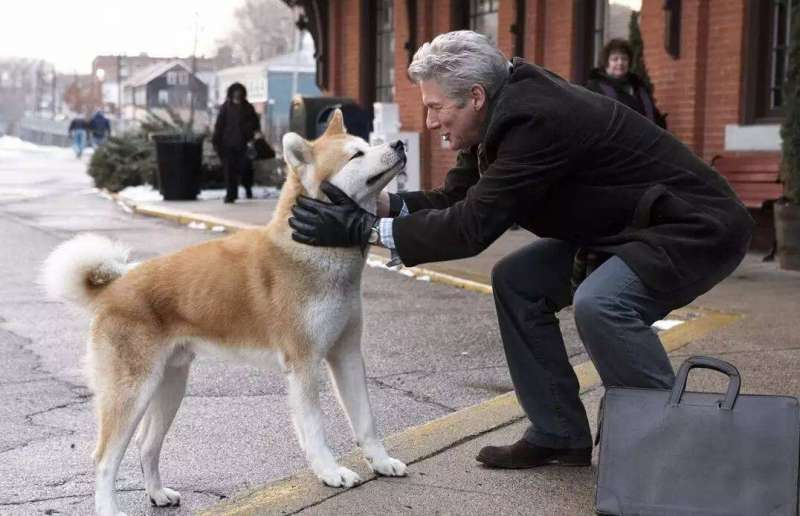dog: (44, 196, 404, 514)
person: (306, 33, 748, 472), (211, 81, 264, 203)
